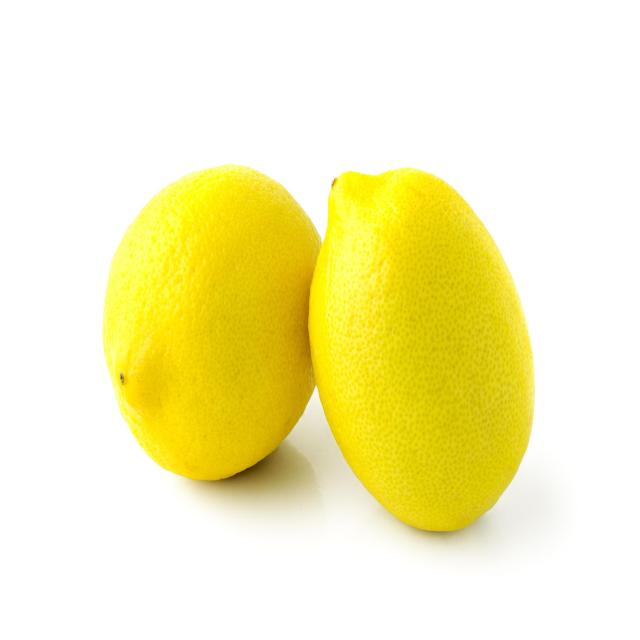lemon: (306, 160, 538, 542), (97, 156, 333, 492)
